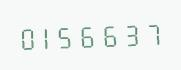five: (59, 21, 79, 50)
one: (38, 21, 58, 51)
seven: (143, 18, 163, 47)
six: (80, 20, 100, 49), (101, 19, 121, 48)
three: (122, 18, 142, 48)
zero: (17, 22, 37, 51)
